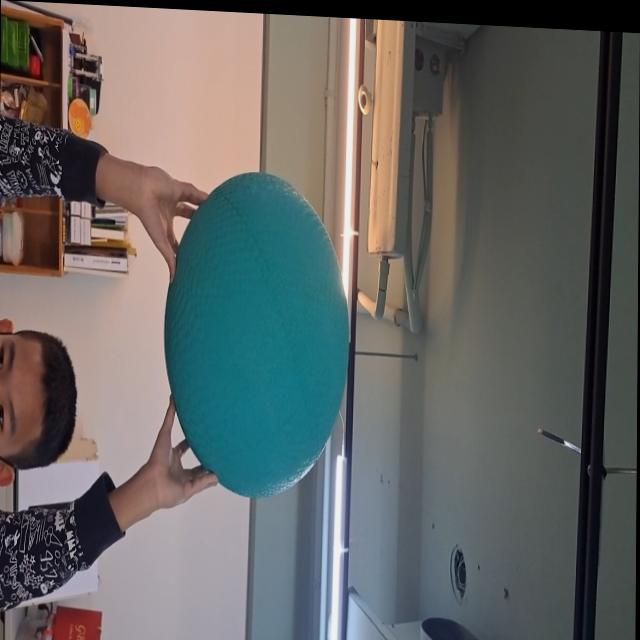ALGAE: (161, 166, 350, 503)
